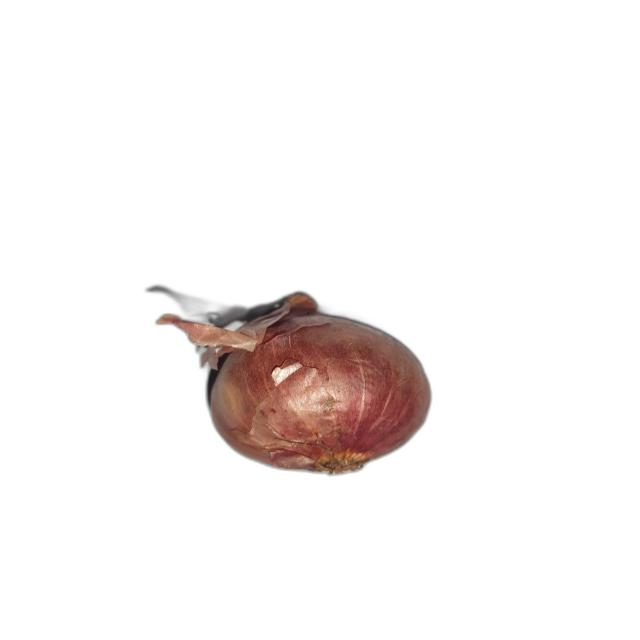onion: (156, 292, 434, 476)
